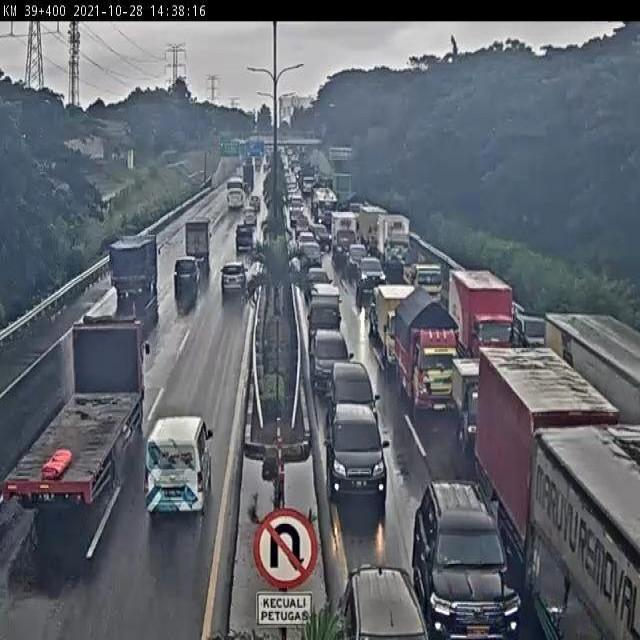big bus: (225, 176, 246, 211)
big truck: (481, 349, 640, 640), (0, 312, 148, 511), (546, 311, 640, 441), (397, 289, 458, 411), (448, 265, 519, 360), (100, 228, 160, 305), (379, 284, 420, 369), (303, 285, 351, 339), (184, 211, 215, 257)
car: (416, 473, 522, 638), (138, 408, 222, 520), (344, 557, 423, 640), (326, 405, 389, 499), (329, 357, 381, 428), (306, 329, 360, 396), (215, 256, 255, 293), (170, 253, 199, 290), (234, 222, 256, 255), (243, 204, 256, 228)
small truck: (451, 356, 508, 457)
